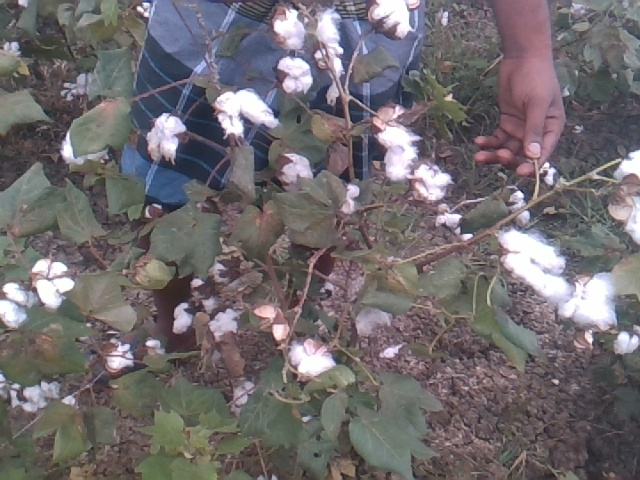cotton: (494, 227, 568, 298), (602, 148, 640, 247), (213, 86, 278, 140), (564, 281, 617, 333), (374, 121, 420, 176), (62, 123, 113, 171), (30, 255, 76, 307), (313, 8, 345, 74), (147, 110, 187, 162), (368, 1, 416, 41), (268, 6, 306, 54), (289, 342, 338, 379), (275, 55, 317, 94), (413, 167, 456, 200), (169, 297, 198, 343), (206, 308, 244, 342), (3, 280, 29, 329), (278, 153, 314, 188), (12, 382, 51, 412), (431, 211, 474, 238), (106, 342, 138, 374), (338, 184, 362, 217), (612, 328, 635, 357), (540, 164, 563, 188)
